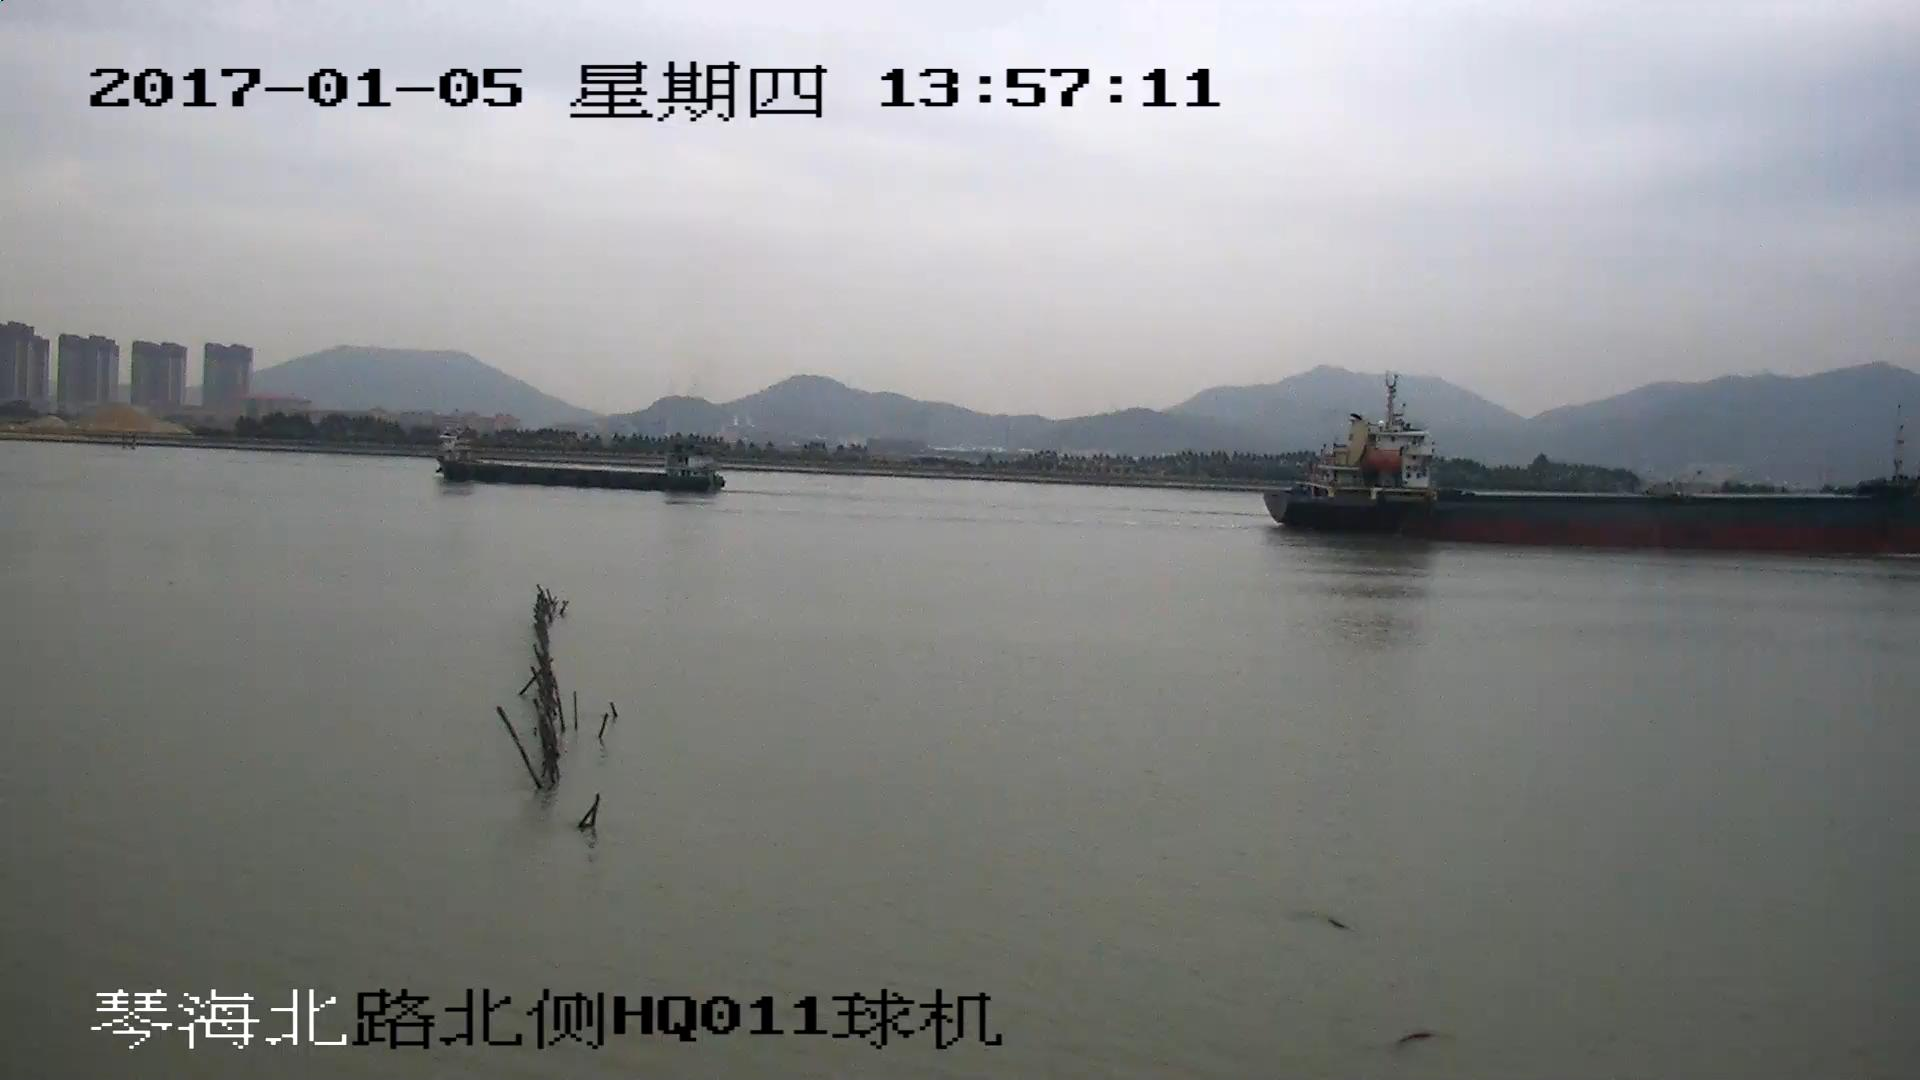general cargo ship: (1263, 379, 1920, 558), (431, 428, 721, 496)
